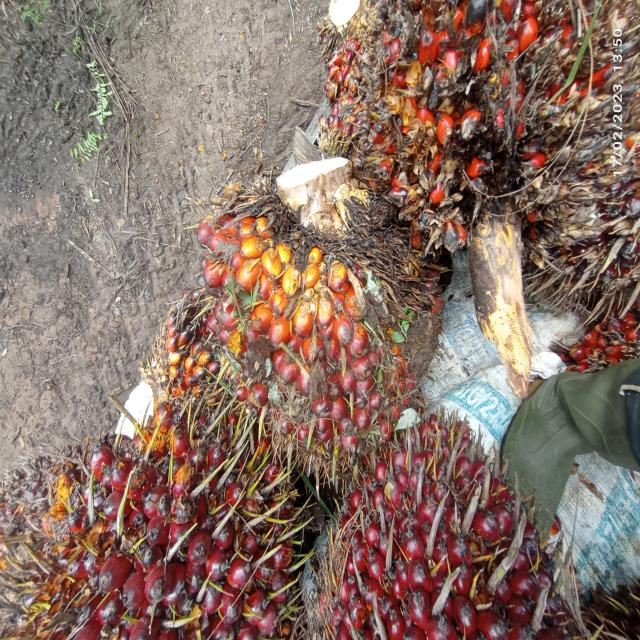fraksi 3: (189, 147, 449, 488), (0, 364, 286, 640), (315, 402, 555, 640)
fraksi 4: (322, 0, 620, 276)
